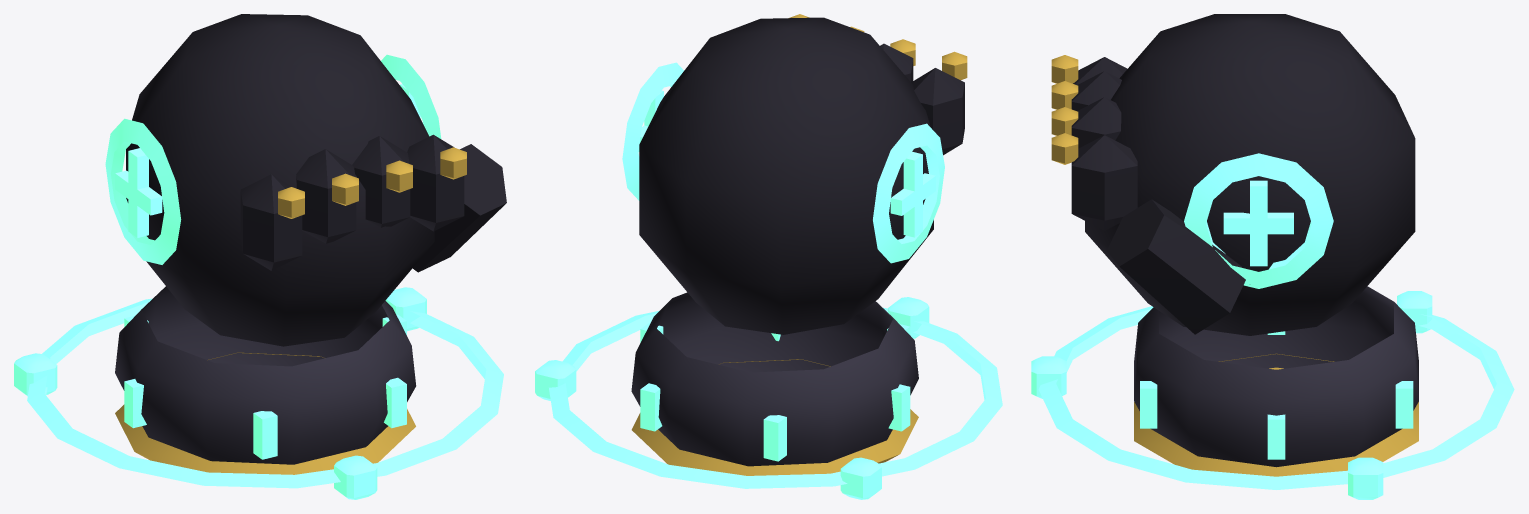
Rendered from seal-gloves-5.glb.
3 views of the same model, side by side, from view 1: azimuth 30°, elevation 25°; view 2: azimuth 150°, elevation 25°; view 3: azimuth 270°, elevation 25° (orthographic). The views are drawn at different scales.
Visible parts, largest first — view 1: seal-gloves-5; view 2: seal-gloves-5; view 3: seal-gloves-5.
Boxes of the visible parts, <box> form: seal-gloves-5: <box>14,14,506,499</box>; seal-gloves-5: <box>535,14,1002,499</box>; seal-gloves-5: <box>1031,14,1514,499</box>.
Bounding box in the file's own units: 0.108 × 0.103 × 0.1096.
